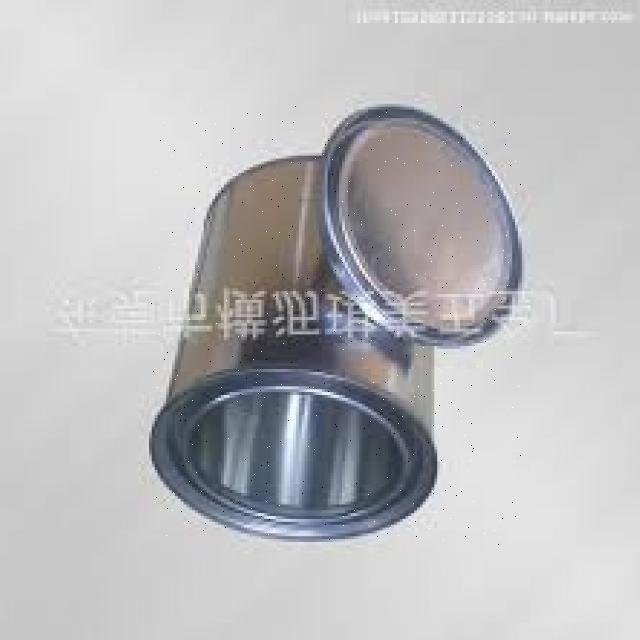metal: (150, 104, 521, 545)
